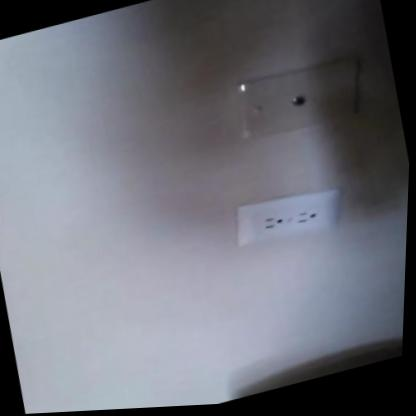OUTLET: (233, 183, 345, 253)
